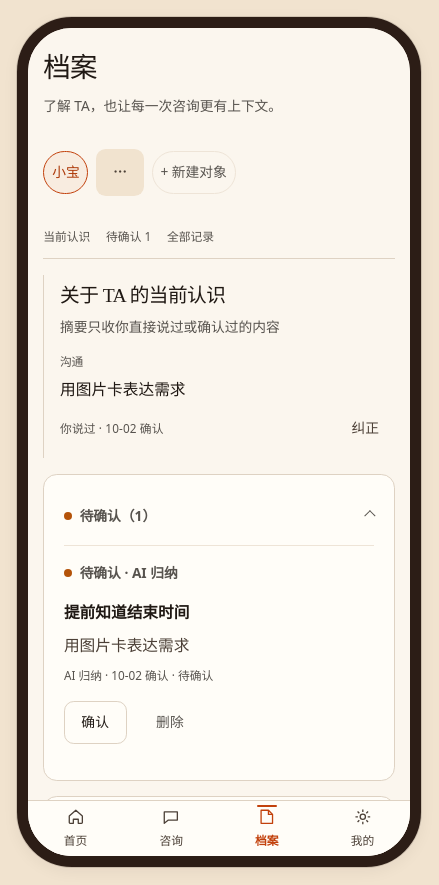
Test case: 档案页 · 纠正流 › 纠正领域是只读，补充与纠正不会同时显示两个冲突表单
Expected: the heading "关于 TA 的当前认识" is shown, left=60, top=285, right=225, bottom=306
Click the button with aria-label "纠正：".
click(373, 428)  # box left=352, top=407, right=395, bottom=450
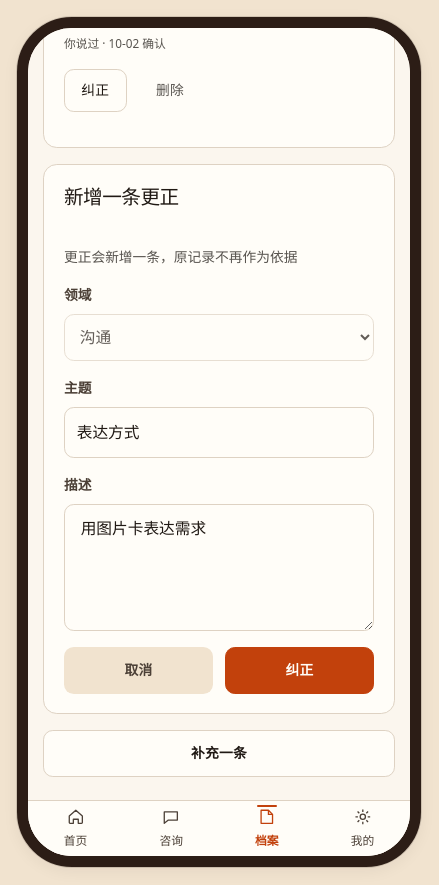
Expected: the dropdown labelled "领域" is disabled, left=64, top=314, right=374, bottom=361
Click the button "补充一条".
click(219, 754)  # box left=43, top=730, right=395, bottom=777
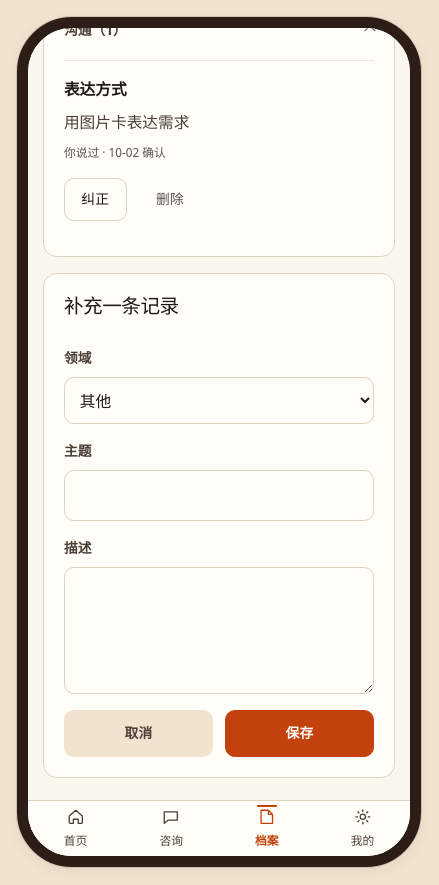
Expected: the number of text boxes labelled "描述" is 1, left=64, top=567, right=374, bottom=694
Expected: the heading "新增一条更正" is gone
Expected: the dropdown labelled "领域" is enabled, left=64, top=377, right=374, bottom=424
